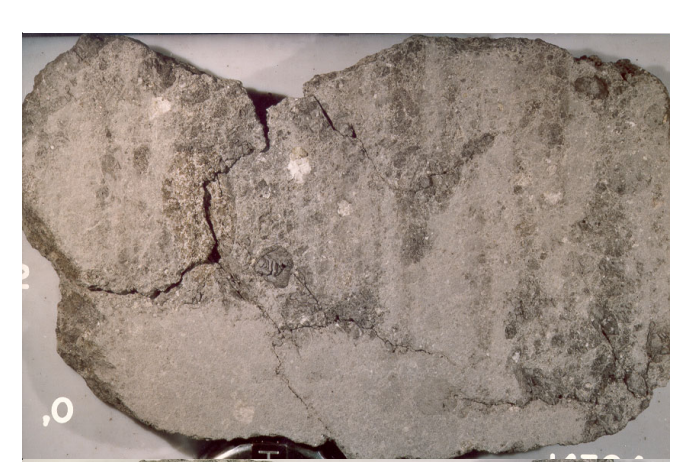Breccia: (43, 52, 641, 442), (116, 105, 379, 408), (218, 233, 475, 392)
